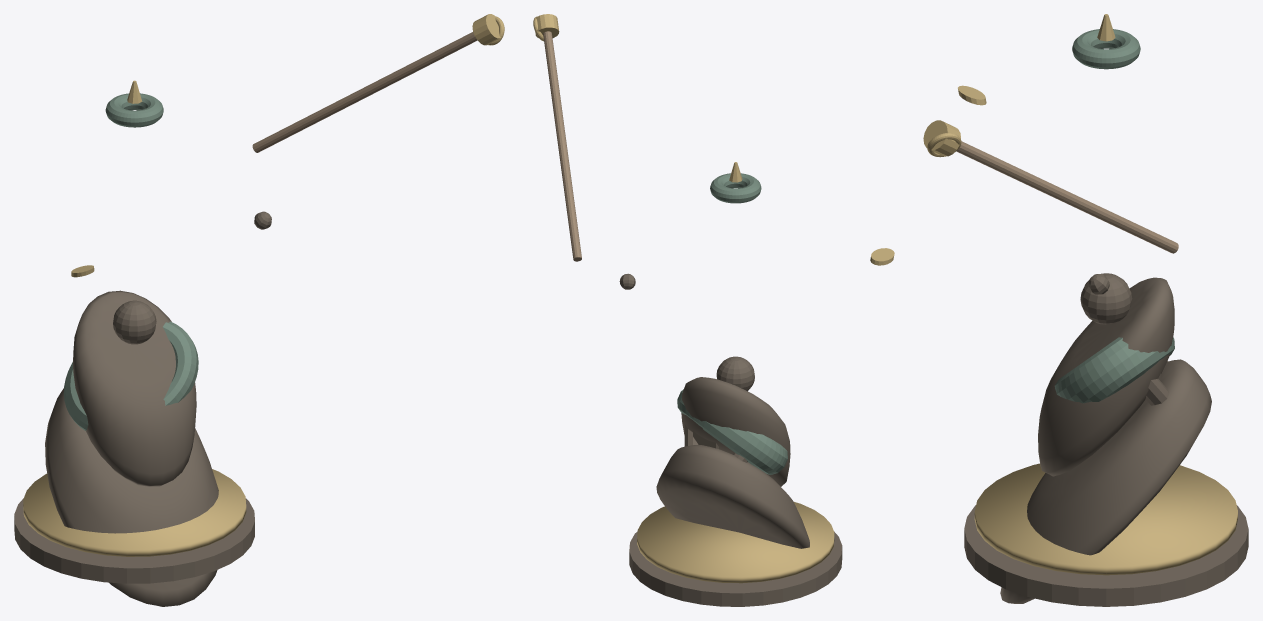
3 renders of one model, left to right at view 1: azimuth 30°, elevation 25°; view 2: azimuth 150°, elevation 25°; view 3: azimuth 270°, elevation 25°, orthographic. The views are drawn at different scales.
Visible parts, largest first — view 1: Acharya_Torso, Acharya_Dhoti, Plinth_GoldRim, Plinth_Stone, Acharya_Staff, Fracture_Shawl_Drape, Acharya_Head, Acharya_Turban, Fracture_Staff_LotusCap; view 2: Acharya_Dhoti, Plinth_GoldRim, Plinth_Stone, Acharya_Torso, Fracture_Shawl_Drape, Acharya_Staff, Acharya_Turban, Acharya_Head; view 3: Acharya_Dhoti, Plinth_GoldRim, Acharya_Torso, Plinth_Stone, Fracture_Shawl_Drape, Acharya_Staff, Acharya_Turban, Acharya_Head, Fracture_Staff_LotusCap, Acharya_RightArm.
Part boxes in pixels (left/top/right/bottom): Acharya_Torso: left=73, top=290, right=196, bottom=486; Acharya_Dhoti: left=45, top=388, right=218, bottom=606; Plinth_GoldRim: left=23, top=469, right=246, bottom=556; Plinth_Stone: left=14, top=498, right=254, bottom=583; Acharya_Staff: left=252, top=32, right=477, bottom=152; Fracture_Shawl_Drape: left=63, top=321, right=198, bottom=430; Acharya_Head: left=113, top=300, right=156, bottom=344; Acharya_Turban: left=105, top=93, right=163, bottom=127; Fracture_Staff_LotusCap: left=472, top=14, right=500, bottom=45; Acharya_Dhoti: left=656, top=445, right=809, bottom=548; Plinth_GoldRim: left=637, top=502, right=834, bottom=583; Plinth_Stone: left=629, top=531, right=842, bottom=606; Acharya_Torso: left=681, top=377, right=790, bottom=486; Fracture_Shawl_Drape: left=677, top=389, right=787, bottom=474; Acharya_Staff: left=543, top=31, right=581, bottom=261; Acharya_Turban: left=710, top=173, right=761, bottom=203; Acharya_Head: left=716, top=356, right=754, bottom=391; Acharya_Dhoti: left=1000, top=359, right=1211, bottom=603; Plinth_GoldRim: left=974, top=463, right=1237, bottom=575; Acharya_Torso: left=1038, top=277, right=1174, bottom=476; Plinth_Stone: left=964, top=505, right=1248, bottom=606; Fracture_Shawl_Drape: left=1054, top=337, right=1174, bottom=403; Acharya_Staff: left=956, top=141, right=1178, bottom=253; Acharya_Turban: left=1072, top=29, right=1140, bottom=69; Acharya_Head: left=1080, top=273, right=1132, bottom=324; Fracture_Staff_LotusCap: left=923, top=120, right=960, bottom=156; Acharya_RightArm: left=1145, top=378, right=1169, bottom=405.
Bounding box in the file's own units: 1.36 × 1.68 × 0.7776.
